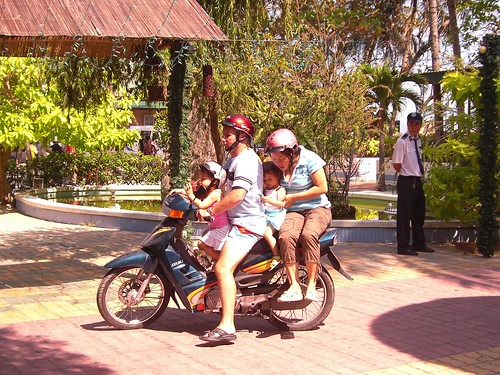helmet: (263, 122, 300, 148), (218, 107, 255, 132), (199, 154, 224, 184)
